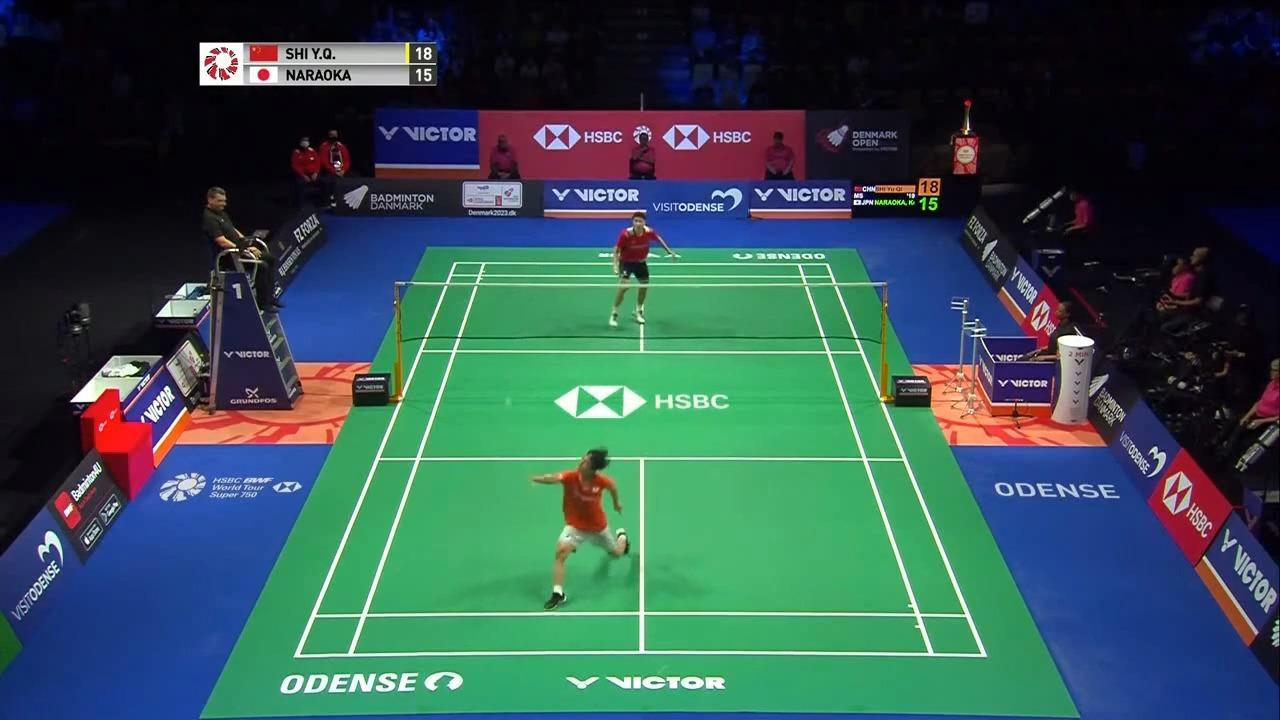shuttle: (505, 396, 511, 410)
